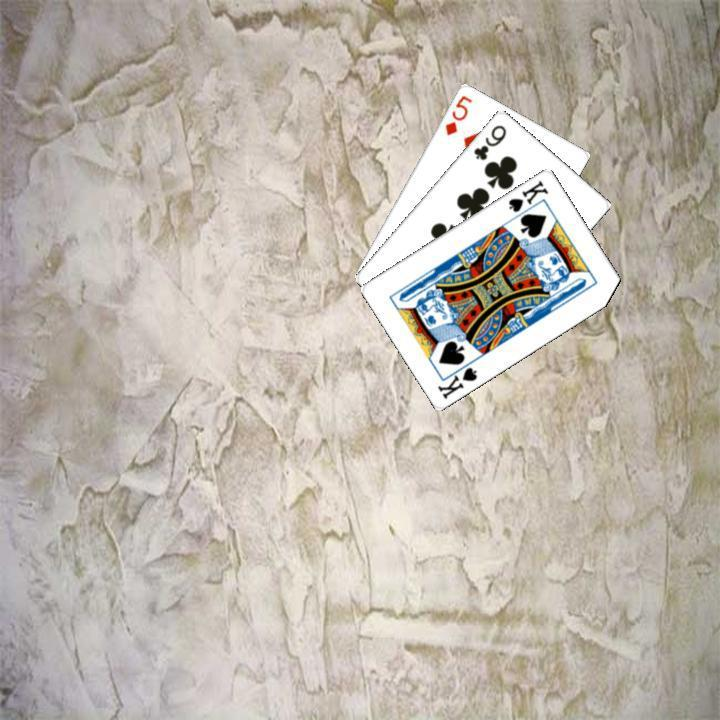5: (441, 90, 474, 137)
9: (469, 120, 509, 162)
K: (433, 355, 479, 400), (504, 175, 550, 214)
